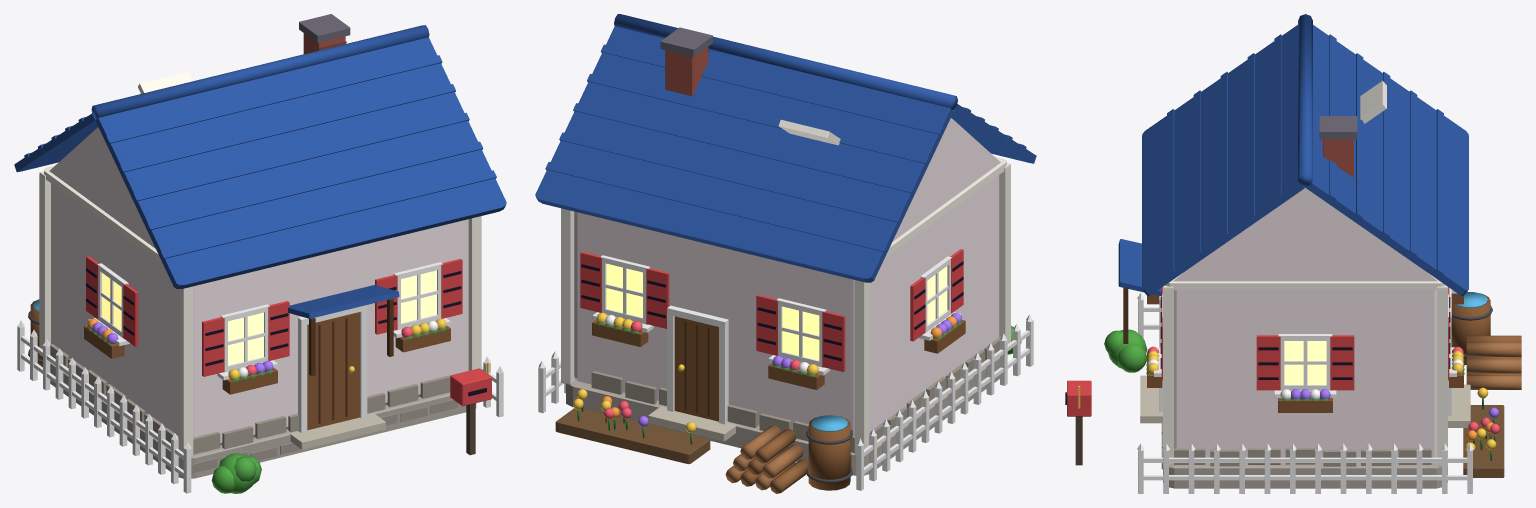
The model's file is domek6.glb.
3 renders of one model, left to right at view 1: azimuth 30°, elevation 25°; view 2: azimuth 150°, elevation 25°; view 3: azimuth 270°, elevation 25°, orthographic. The views are drawn at different scales.
Visible parts, largest first — view 1: domek6; view 2: domek6; view 3: domek6.
Part boxes in pixels (x1=…): domek6: x1=14, y1=14, x2=506, y2=493; domek6: x1=535, y1=14, x2=1036, y2=493; domek6: x1=1065, y1=14, x2=1521, y2=493.
Size of the model in its own units: 5.54 by 5.43 by 6.65.
2 materials, 2 textured.
